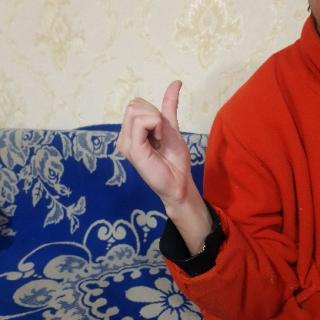WAW: (114, 74, 198, 213)
